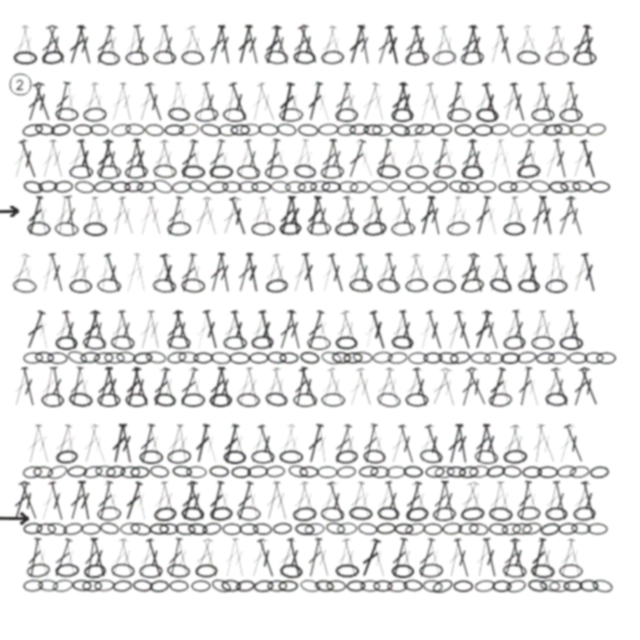chain: (488, 276, 513, 295), (404, 49, 430, 67), (376, 391, 402, 409), (151, 177, 174, 196), (432, 49, 457, 66), (516, 163, 541, 180), (334, 220, 359, 237), (362, 220, 387, 237), (446, 220, 471, 237), (376, 277, 401, 294), (460, 277, 485, 294), (68, 391, 93, 408), (264, 391, 289, 408), (26, 562, 51, 579), (46, 463, 69, 481), (431, 577, 454, 595), (41, 49, 65, 66), (167, 106, 191, 123), (293, 163, 317, 180), (419, 448, 443, 465), (460, 50, 485, 66), (194, 107, 219, 123), (222, 107, 247, 123), (124, 164, 149, 180), (236, 164, 261, 180), (264, 164, 289, 180), (320, 164, 345, 180), (54, 221, 79, 237), (12, 278, 37, 294), (152, 278, 177, 294), (82, 335, 107, 351), (236, 392, 261, 408), (488, 392, 513, 408), (474, 449, 499, 465), (292, 506, 317, 522), (320, 506, 345, 522), (432, 506, 457, 522), (460, 506, 485, 522), (488, 506, 513, 522), (166, 563, 191, 579), (502, 563, 527, 579), (530, 563, 555, 579), (210, 577, 232, 595), (97, 50, 121, 66), (475, 107, 499, 123), (265, 278, 289, 294), (517, 278, 541, 294), (153, 392, 177, 408), (55, 449, 79, 465), (335, 449, 359, 465), (153, 506, 177, 522), (405, 506, 429, 522), (83, 563, 107, 579), (279, 563, 303, 579), (264, 50, 289, 65), (516, 50, 541, 65), (376, 164, 401, 179), (110, 335, 135, 350), (348, 506, 373, 521), (66, 349, 88, 366), (21, 122, 44, 138), (199, 122, 222, 138), (320, 350, 343, 366), (129, 521, 152, 537), (404, 521, 427, 537), (591, 578, 614, 594), (55, 107, 79, 122), (83, 107, 107, 122), (153, 164, 177, 179), (27, 221, 51, 236), (167, 221, 191, 236), (307, 221, 331, 236), (391, 221, 415, 236), (97, 278, 121, 293), (181, 278, 205, 293), (349, 278, 373, 293), (167, 335, 191, 350), (167, 449, 191, 464), (503, 449, 527, 464), (97, 506, 121, 521), (209, 506, 233, 521), (237, 506, 261, 521), (517, 506, 541, 521), (55, 563, 79, 578), (111, 563, 135, 578), (419, 563, 443, 578), (110, 122, 132, 138), (389, 122, 411, 138), (403, 122, 425, 138), (509, 122, 531, 138), (22, 179, 44, 195), (82, 464, 104, 480), (46, 521, 68, 537), (62, 521, 84, 537), (539, 521, 561, 537), (299, 578, 321, 594), (505, 578, 527, 594), (153, 50, 176, 65), (181, 50, 204, 65), (293, 50, 316, 65), (321, 50, 344, 65), (279, 221, 302, 236), (405, 278, 428, 293), (251, 335, 274, 350), (391, 335, 414, 350), (503, 335, 526, 350), (545, 392, 568, 407), (363, 449, 386, 464), (181, 506, 204, 521), (377, 506, 400, 521), (573, 506, 596, 521), (13, 51, 37, 65), (125, 51, 149, 65), (545, 51, 569, 65), (573, 51, 597, 65), (279, 108, 303, 122), (447, 108, 471, 122), (531, 108, 555, 122), (559, 108, 583, 122), (69, 165, 93, 179), (97, 165, 121, 179), (181, 165, 205, 179), (209, 165, 233, 179), (405, 165, 429, 179), (83, 222, 107, 236), (251, 222, 275, 236), (223, 336, 247, 350), (307, 336, 331, 350), (531, 336, 555, 350), (559, 336, 583, 350), (97, 393, 121, 407), (181, 393, 205, 407), (293, 393, 317, 407), (321, 393, 345, 407), (405, 393, 429, 407), (139, 450, 163, 464), (251, 450, 275, 464), (279, 450, 303, 464), (139, 564, 163, 578), (335, 564, 359, 578), (559, 564, 583, 578), (178, 122, 200, 137), (427, 179, 449, 194), (448, 179, 470, 194), (529, 179, 551, 194), (145, 350, 167, 365), (166, 350, 188, 365), (449, 350, 471, 365), (287, 464, 309, 479), (485, 464, 507, 479), (201, 521, 223, 536), (521, 521, 543, 536), (52, 578, 74, 593), (539, 578, 561, 593), (335, 108, 358, 122), (391, 108, 414, 122), (433, 165, 456, 179), (461, 165, 484, 179), (503, 222, 526, 236), (69, 279, 92, 293), (433, 279, 456, 293), (545, 279, 568, 293), (55, 336, 78, 350), (335, 336, 358, 350), (41, 393, 64, 407), (125, 393, 148, 407), (209, 393, 232, 407), (223, 450, 246, 464), (545, 507, 568, 521), (195, 564, 218, 578), (391, 564, 414, 578), (34, 122, 55, 137), (50, 122, 71, 137), (276, 122, 297, 137), (414, 122, 435, 137), (528, 122, 549, 137), (553, 122, 574, 137), (586, 122, 607, 137), (93, 179, 114, 194), (188, 179, 209, 194), (299, 350, 320, 365), (516, 350, 537, 365), (105, 464, 126, 479), (149, 464, 170, 479), (556, 464, 577, 479), (99, 521, 120, 536), (325, 521, 346, 536), (527, 578, 548, 593), (297, 123, 319, 137), (207, 180, 229, 194), (210, 351, 232, 365), (437, 351, 459, 365), (385, 465, 407, 479), (174, 522, 196, 536), (474, 579, 496, 593), (89, 123, 110, 137), (144, 123, 165, 137), (336, 123, 357, 137), (542, 123, 563, 137), (74, 180, 95, 194), (136, 180, 157, 194), (171, 180, 192, 194), (270, 180, 291, 194), (297, 180, 318, 194), (349, 180, 370, 194), (548, 180, 569, 194), (93, 351, 114, 365), (132, 351, 153, 365), (387, 351, 408, 365), (535, 351, 556, 365), (22, 465, 43, 479), (336, 465, 357, 479), (434, 465, 455, 479), (458, 465, 479, 479), (569, 465, 590, 479), (589, 465, 610, 479), (187, 522, 208, 536), (252, 522, 273, 536), (294, 522, 315, 536), (304, 522, 325, 536), (357, 522, 378, 536), (468, 522, 489, 536), (488, 522, 509, 536), (501, 522, 522, 536), (112, 579, 133, 593), (149, 579, 170, 593), (235, 579, 256, 593), (253, 579, 274, 593), (314, 579, 335, 593), (422, 579, 443, 593), (510, 180, 532, 193), (240, 123, 261, 136), (258, 123, 279, 136), (318, 123, 339, 136), (431, 123, 452, 136), (53, 180, 74, 193), (476, 180, 497, 193), (560, 180, 581, 193), (34, 351, 55, 364), (178, 351, 199, 364), (331, 351, 352, 364), (352, 351, 373, 364), (372, 351, 393, 364), (95, 465, 116, 478), (247, 465, 268, 478), (265, 465, 286, 478), (358, 465, 379, 478), (469, 465, 490, 478), (272, 522, 293, 535), (458, 522, 479, 535), (94, 579, 115, 592), (132, 579, 153, 592), (125, 123, 145, 136), (349, 123, 369, 136), (490, 123, 510, 136), (38, 180, 58, 193), (124, 180, 144, 193), (310, 180, 330, 193), (369, 180, 389, 193), (389, 180, 409, 193), (572, 180, 592, 193), (80, 351, 100, 364), (116, 351, 136, 364), (267, 351, 287, 364), (67, 465, 87, 478), (172, 465, 192, 478), (209, 465, 229, 478), (403, 465, 423, 478), (425, 465, 445, 478), (502, 465, 522, 478), (23, 522, 43, 535), (120, 522, 140, 535), (337, 522, 357, 535), (376, 522, 396, 535), (442, 522, 462, 535), (558, 522, 578, 535), (571, 522, 591, 535), (23, 579, 43, 592), (38, 579, 58, 592), (72, 579, 92, 592), (221, 579, 241, 592), (403, 579, 423, 592), (579, 579, 599, 592), (372, 124, 393, 136), (285, 181, 306, 193), (47, 352, 68, 364), (104, 352, 125, 364), (229, 352, 250, 364), (470, 352, 491, 364), (186, 466, 207, 478), (317, 466, 338, 478), (537, 466, 558, 478), (587, 523, 608, 535), (387, 580, 408, 592), (549, 580, 570, 592), (73, 124, 93, 136), (164, 124, 184, 136), (218, 124, 238, 136), (230, 124, 250, 136), (363, 124, 383, 136), (454, 124, 474, 136), (473, 124, 493, 136), (569, 124, 589, 136), (111, 181, 131, 193), (222, 181, 242, 193), (238, 181, 258, 193), (251, 181, 271, 193), (321, 181, 341, 193), (338, 181, 358, 193), (408, 181, 428, 193), (459, 181, 479, 193), (498, 181, 518, 193), (590, 181, 610, 193), (23, 352, 43, 364), (193, 352, 213, 364), (249, 352, 269, 364), (279, 352, 299, 364), (343, 352, 363, 364), (408, 352, 428, 364), (423, 352, 443, 364), (484, 352, 504, 364), (500, 352, 520, 364), (548, 352, 568, 364), (568, 352, 588, 364), (584, 352, 604, 364), (596, 352, 616, 364), (33, 466, 53, 478), (120, 466, 140, 478), (130, 466, 150, 478), (231, 466, 251, 478), (299, 466, 319, 478), (370, 466, 390, 478), (446, 466, 466, 478), (522, 466, 542, 478), (36, 523, 56, 535), (81, 523, 101, 535), (149, 523, 169, 535), (159, 523, 179, 535), (222, 523, 242, 535), (239, 523, 259, 535), (394, 523, 414, 535), (423, 523, 443, 535), (512, 523, 532, 535), (82, 580, 102, 592), (169, 580, 189, 592), (191, 580, 211, 592), (267, 580, 287, 592), (278, 580, 298, 592), (326, 580, 346, 592), (346, 580, 366, 592), (360, 580, 380, 592), (373, 580, 393, 592), (453, 580, 473, 592), (492, 580, 512, 592), (563, 580, 583, 592)
double: (183, 24, 211, 66), (427, 366, 455, 408), (463, 366, 491, 407), (357, 537, 384, 579), (43, 24, 70, 65), (295, 24, 322, 65), (519, 24, 546, 65), (567, 24, 594, 65), (455, 252, 482, 293), (561, 423, 588, 464), (455, 480, 482, 521), (436, 24, 462, 66), (226, 81, 252, 123), (254, 81, 280, 123), (212, 138, 238, 180), (218, 195, 244, 237), (148, 252, 174, 294), (408, 252, 434, 294), (22, 309, 48, 351), (296, 366, 322, 408), (268, 138, 294, 179), (352, 138, 378, 179), (576, 366, 602, 407), (534, 423, 560, 464), (16, 480, 42, 521), (190, 537, 216, 578), (92, 24, 117, 66), (30, 81, 55, 123), (142, 81, 167, 123), (282, 81, 307, 123), (310, 81, 335, 123), (358, 81, 383, 123), (16, 138, 41, 180), (64, 138, 89, 180), (100, 138, 125, 180), (344, 138, 369, 180), (512, 138, 537, 180), (568, 138, 593, 180), (226, 195, 251, 237), (554, 195, 579, 237), (8, 252, 33, 294), (16, 252, 41, 294), (428, 252, 453, 294), (492, 252, 517, 294), (170, 309, 195, 351), (338, 309, 363, 351), (470, 309, 495, 351), (176, 366, 201, 408), (324, 366, 349, 408), (548, 366, 573, 408), (86, 423, 111, 465), (330, 423, 355, 465), (422, 423, 447, 465), (184, 480, 209, 522), (324, 480, 349, 522), (464, 480, 489, 522), (50, 537, 75, 579), (254, 537, 279, 579), (274, 537, 299, 579), (9, 24, 33, 66), (37, 24, 61, 66), (269, 24, 293, 66), (373, 24, 397, 66), (549, 24, 573, 66), (23, 81, 47, 123), (87, 81, 111, 123), (387, 81, 411, 123), (451, 81, 475, 123), (471, 81, 495, 123), (177, 138, 201, 180), (381, 138, 405, 180), (521, 138, 545, 180), (541, 138, 565, 180), (115, 195, 139, 237), (191, 195, 215, 237), (331, 195, 355, 237), (395, 195, 419, 237), (451, 195, 475, 237), (563, 195, 587, 237), (101, 252, 125, 294), (79, 309, 103, 351), (87, 309, 111, 351), (275, 309, 299, 351), (303, 309, 327, 351), (423, 309, 447, 351), (443, 309, 467, 351), (451, 309, 475, 351), (479, 309, 503, 351), (499, 309, 523, 351), (555, 309, 579, 351), (129, 366, 153, 408), (149, 366, 173, 408), (157, 366, 181, 408), (185, 366, 209, 408), (345, 366, 369, 408), (353, 366, 377, 408), (373, 366, 397, 408), (401, 366, 425, 408), (485, 366, 509, 408), (569, 366, 593, 408), (51, 423, 75, 465), (227, 423, 251, 465), (255, 423, 279, 465), (275, 423, 299, 465), (367, 423, 391, 465), (395, 423, 419, 465), (415, 423, 439, 465), (499, 423, 523, 465), (507, 423, 531, 465), (9, 480, 33, 522), (101, 480, 125, 522), (121, 480, 145, 522), (213, 480, 237, 522), (297, 480, 321, 522), (317, 480, 341, 522), (401, 480, 425, 522), (409, 480, 433, 522), (521, 480, 545, 522), (569, 480, 593, 522), (107, 537, 131, 579), (247, 537, 271, 579), (499, 537, 523, 579), (535, 537, 559, 579), (65, 24, 88, 66), (205, 24, 228, 66), (261, 24, 284, 66), (317, 24, 340, 66), (325, 24, 348, 66), (345, 24, 368, 66), (401, 24, 424, 66), (409, 24, 432, 66), (457, 24, 480, 66), (541, 24, 564, 66), (107, 81, 130, 123), (135, 81, 158, 123), (199, 81, 222, 123), (331, 81, 354, 123), (423, 81, 446, 123), (479, 81, 502, 123), (499, 81, 522, 123), (507, 81, 530, 123), (535, 81, 558, 123), (93, 138, 116, 180), (149, 138, 172, 180), (157, 138, 180, 180), (185, 138, 208, 180), (205, 138, 228, 180), (241, 138, 264, 180), (401, 138, 424, 180), (409, 138, 432, 180), (457, 138, 480, 180), (465, 138, 488, 180), (577, 138, 600, 180), (163, 195, 186, 237), (171, 195, 194, 237), (199, 195, 222, 237), (247, 195, 270, 237), (359, 195, 382, 237), (65, 252, 88, 294), (157, 252, 180, 294), (177, 252, 200, 294), (185, 252, 208, 294), (261, 252, 284, 294), (269, 252, 292, 294), (289, 252, 312, 294), (325, 252, 348, 294), (353, 252, 376, 294), (401, 252, 424, 294), (465, 252, 488, 294), (485, 252, 508, 294), (513, 252, 536, 294), (569, 252, 592, 294), (51, 309, 74, 351), (59, 309, 82, 351), (115, 309, 138, 351), (163, 309, 186, 351), (219, 309, 242, 351), (247, 309, 270, 351), (367, 309, 390, 351), (387, 309, 410, 351), (269, 366, 292, 408), (437, 366, 460, 408), (457, 366, 480, 408), (521, 366, 544, 408), (541, 366, 564, 408), (199, 423, 222, 465), (247, 423, 270, 465), (283, 423, 306, 465), (387, 423, 410, 465), (555, 423, 578, 465), (37, 480, 60, 522), (233, 480, 256, 522), (345, 480, 368, 522), (373, 480, 396, 522), (31, 537, 54, 579), (135, 537, 158, 579), (143, 537, 166, 579), (199, 537, 222, 579), (339, 537, 362, 579), (367, 537, 390, 579), (415, 537, 438, 579), (451, 537, 474, 579), (507, 537, 530, 579), (382, 24, 404, 66), (276, 81, 298, 123), (340, 81, 362, 123), (38, 138, 60, 180), (318, 138, 340, 180), (494, 138, 516, 180), (88, 195, 110, 237), (136, 195, 158, 237), (312, 195, 334, 237), (122, 252, 144, 294), (438, 252, 460, 294), (192, 309, 214, 351), (360, 309, 382, 351), (410, 366, 432, 408), (444, 423, 466, 465), (46, 480, 68, 522), (66, 480, 88, 522), (556, 537, 578, 579), (74, 24, 96, 65), (158, 24, 180, 65), (178, 24, 200, 65), (290, 24, 312, 65), (486, 24, 508, 65), (494, 24, 516, 65), (80, 81, 102, 122), (172, 81, 194, 122), (304, 81, 326, 122), (396, 81, 418, 122), (416, 81, 438, 122), (528, 81, 550, 122), (556, 81, 578, 122), (10, 138, 32, 179), (46, 138, 68, 179), (74, 138, 96, 179), (122, 138, 144, 179), (234, 138, 256, 179), (290, 138, 312, 179), (438, 138, 460, 179), (24, 195, 46, 236), (144, 195, 166, 236), (256, 195, 278, 236), (276, 195, 298, 236), (340, 195, 362, 236), (388, 195, 410, 236), (416, 195, 438, 236), (472, 195, 494, 236), (480, 195, 502, 236), (508, 195, 530, 236), (46, 252, 68, 293), (206, 252, 228, 293), (234, 252, 256, 293), (318, 252, 340, 293), (346, 252, 368, 293), (374, 252, 396, 293), (382, 252, 404, 293), (578, 252, 600, 293), (136, 309, 158, 350), (200, 309, 222, 350), (228, 309, 250, 350), (312, 309, 334, 350), (416, 309, 438, 350), (536, 309, 558, 350), (10, 366, 32, 407), (94, 366, 116, 407), (122, 366, 144, 407), (206, 366, 228, 407), (234, 366, 256, 407), (262, 366, 284, 407), (318, 366, 340, 407), (382, 366, 404, 407), (32, 423, 54, 464), (80, 423, 102, 464), (136, 423, 158, 464), (144, 423, 166, 464), (164, 423, 186, 464), (220, 423, 242, 464), (304, 423, 326, 464), (480, 423, 502, 464), (94, 480, 116, 521), (158, 480, 180, 521), (178, 480, 200, 521), (242, 480, 264, 521), (262, 480, 284, 521), (270, 480, 292, 521), (290, 480, 312, 521), (382, 480, 404, 521), (494, 480, 516, 521), (578, 480, 600, 521), (88, 537, 110, 578), (116, 537, 138, 578), (312, 537, 334, 578), (332, 537, 354, 578), (388, 537, 410, 578), (424, 537, 446, 578), (564, 537, 586, 578), (18, 24, 39, 65), (102, 24, 123, 65), (150, 24, 171, 65), (234, 24, 255, 65), (242, 24, 263, 65), (466, 24, 487, 65), (514, 24, 535, 65), (52, 81, 73, 122), (116, 81, 137, 122), (248, 81, 269, 122), (368, 81, 389, 122), (444, 81, 465, 122), (564, 81, 585, 122), (130, 138, 151, 179), (374, 138, 395, 179), (430, 138, 451, 179), (486, 138, 507, 179), (550, 138, 571, 179), (80, 195, 101, 236), (368, 195, 389, 236), (500, 195, 521, 236), (528, 195, 549, 236), (38, 252, 59, 293), (130, 252, 151, 293), (550, 252, 571, 293), (108, 309, 129, 350), (144, 309, 165, 350), (256, 309, 277, 350), (284, 309, 305, 350), (332, 309, 353, 350), (396, 309, 417, 350), (528, 309, 549, 350), (564, 309, 585, 350), (18, 366, 39, 407), (74, 366, 95, 407), (102, 366, 123, 407), (494, 366, 515, 407), (24, 423, 45, 464), (116, 423, 137, 464), (192, 423, 213, 464), (340, 423, 361, 464), (360, 423, 381, 464), (472, 423, 493, 464), (206, 480, 227, 521), (430, 480, 451, 521), (486, 480, 507, 521), (542, 480, 563, 521), (550, 480, 571, 521), (60, 537, 81, 578), (284, 537, 305, 578), (304, 537, 325, 578), (444, 537, 465, 578), (480, 537, 501, 578), (528, 537, 549, 578), (215, 24, 235, 65), (431, 24, 451, 65), (193, 81, 213, 122), (263, 138, 283, 179), (327, 138, 347, 179), (109, 195, 129, 236), (425, 195, 445, 236), (537, 195, 557, 236), (243, 252, 263, 293), (523, 252, 543, 293), (33, 309, 53, 350), (509, 309, 529, 350), (215, 366, 235, 407), (243, 366, 263, 407), (291, 366, 311, 407), (515, 366, 535, 407), (109, 423, 129, 464), (75, 480, 95, 521), (131, 480, 151, 521), (151, 480, 171, 521), (355, 480, 375, 521), (439, 480, 459, 521), (515, 480, 535, 521), (165, 537, 185, 578), (173, 537, 193, 578), (221, 537, 241, 578), (229, 537, 249, 578), (397, 537, 417, 578), (123, 24, 142, 65), (131, 24, 150, 65), (355, 24, 374, 65), (165, 81, 184, 122), (299, 138, 318, 179), (33, 195, 52, 236), (53, 195, 72, 236), (305, 195, 324, 236), (445, 195, 464, 236), (75, 252, 94, 293), (215, 252, 234, 293), (299, 252, 318, 293), (39, 366, 58, 407), (67, 366, 86, 407), (453, 423, 472, 464), (25, 537, 44, 578), (473, 537, 492, 578), (580, 24, 598, 65), (62, 81, 80, 122), (222, 81, 240, 122), (62, 195, 80, 236), (286, 195, 304, 236), (96, 252, 114, 293), (48, 366, 66, 407), (62, 423, 80, 464), (174, 423, 192, 464), (530, 423, 548, 464), (82, 537, 100, 578), (544, 252, 561, 293), (314, 423, 331, 464)
noise: (7, 71, 33, 97), (0, 511, 31, 525), (0, 206, 21, 217)
